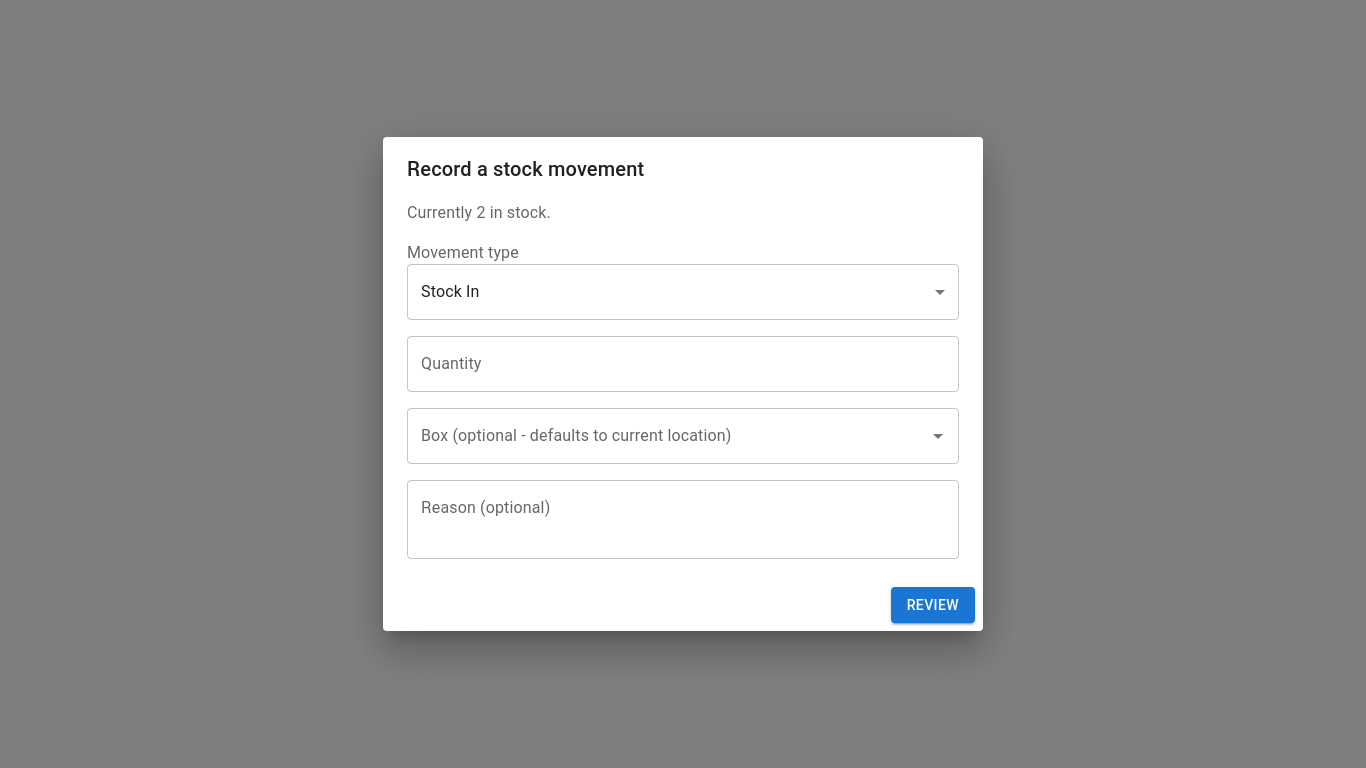
Test: StockMovementDialog › Damaged: rejects a quantity greater than what's in stock
Click the dropdown labelled "Stock In" at (450, 292), box [421,282,480,301]
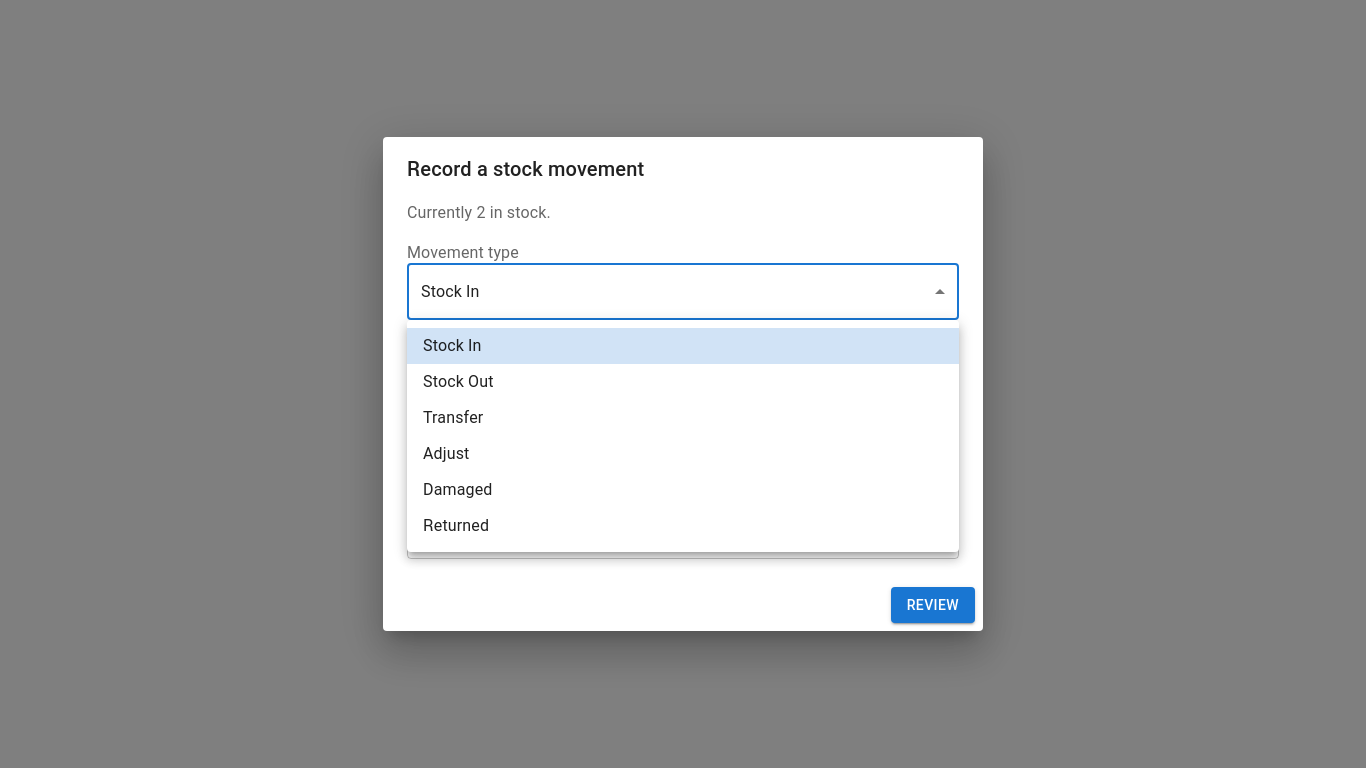
Click the option "Damaged" at (458, 490), box [423,480,492,499]
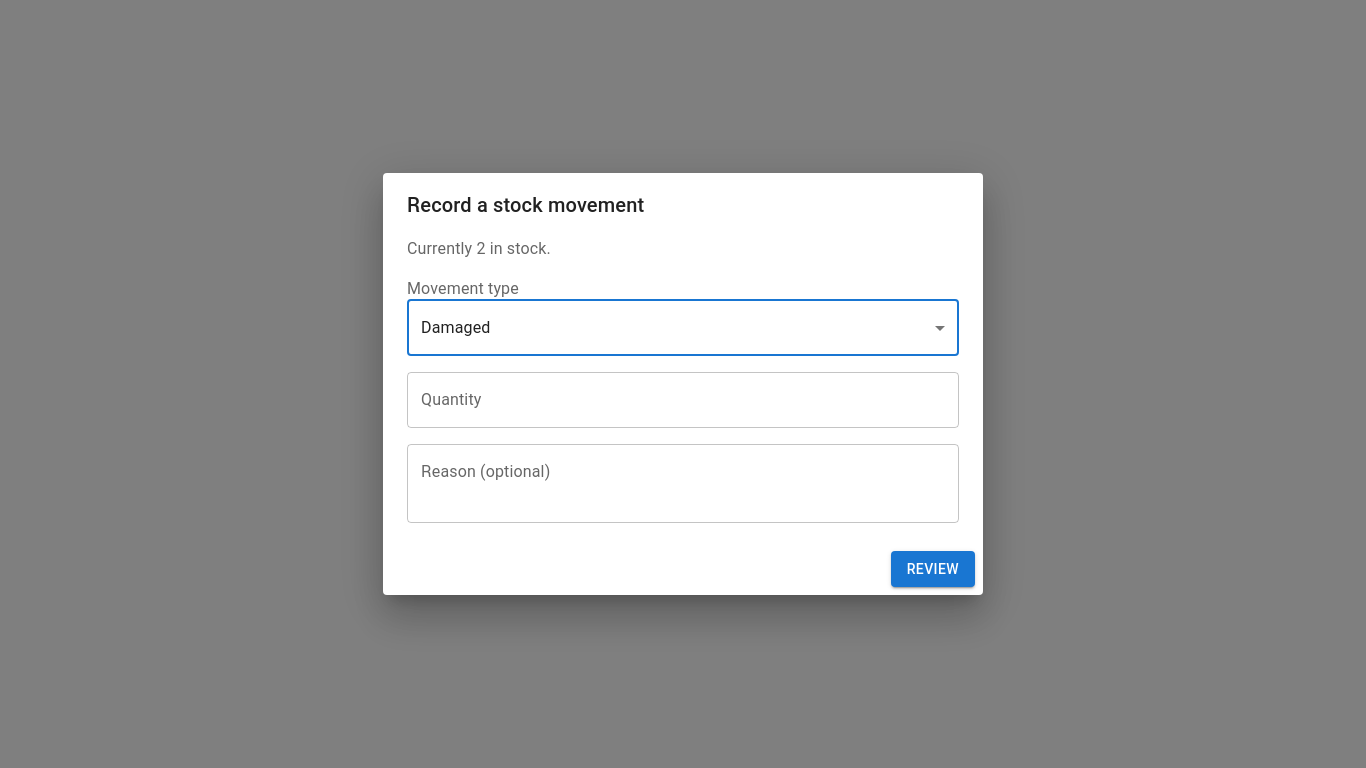
Type "5" into the number field at (683, 400), box [407,372,959,428]
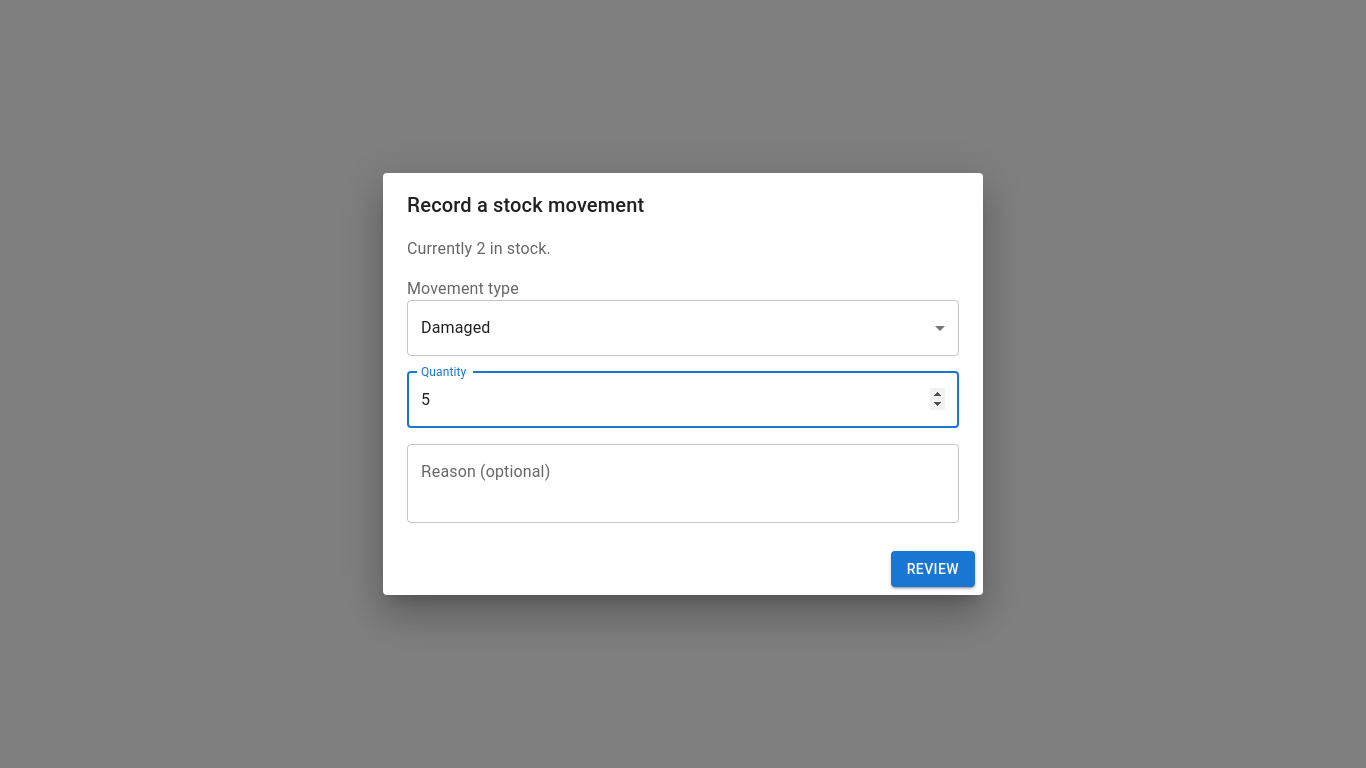
Click the button "Review" at (933, 569), box [891,551,975,587]
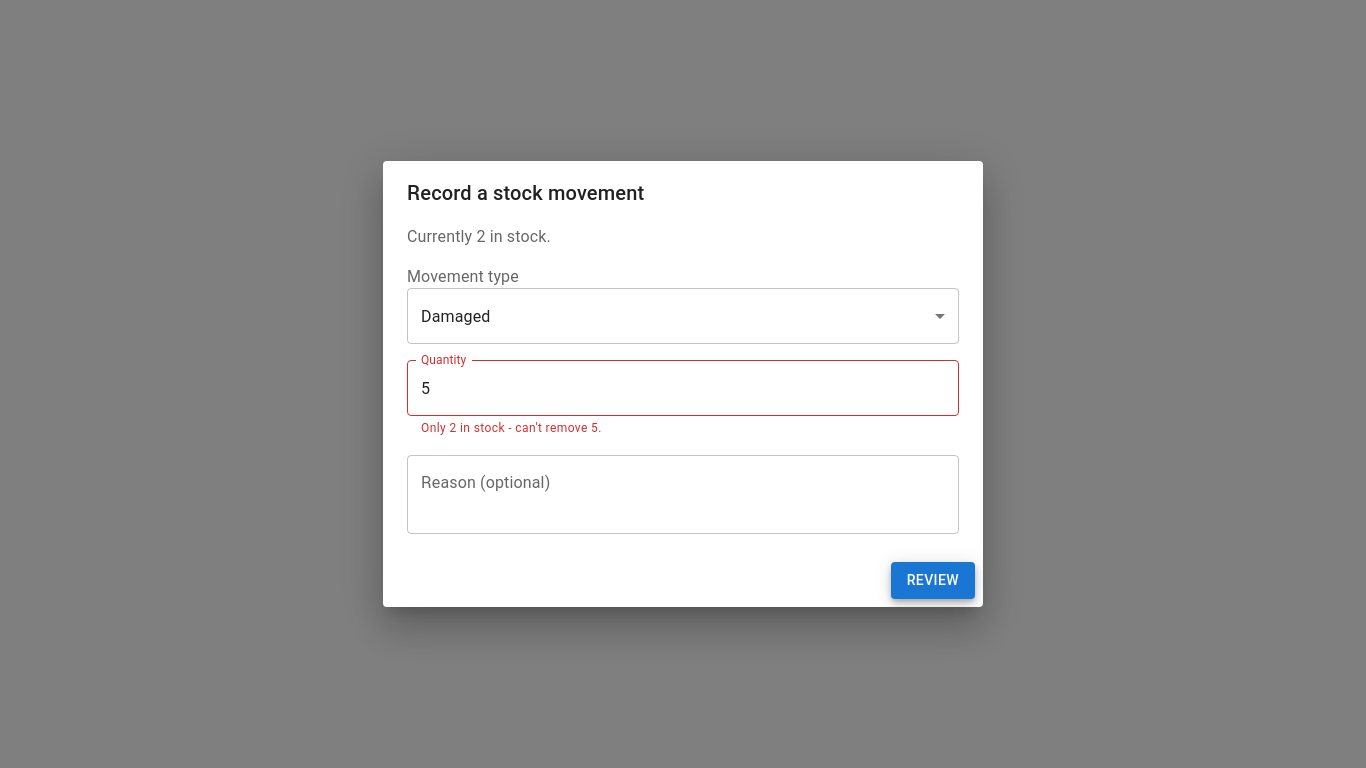
Result: the text "Only 2 in stock - can't remove 5." is shown at [421,421,602,435]
